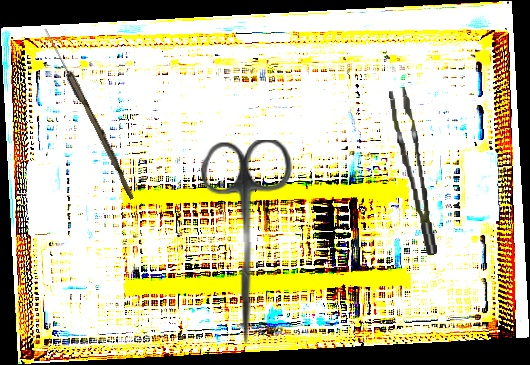Iris Scissors: (199, 139, 296, 345)
Surgical Spoon: (40, 27, 139, 200)
Tissue Forceps: (388, 85, 438, 258)
